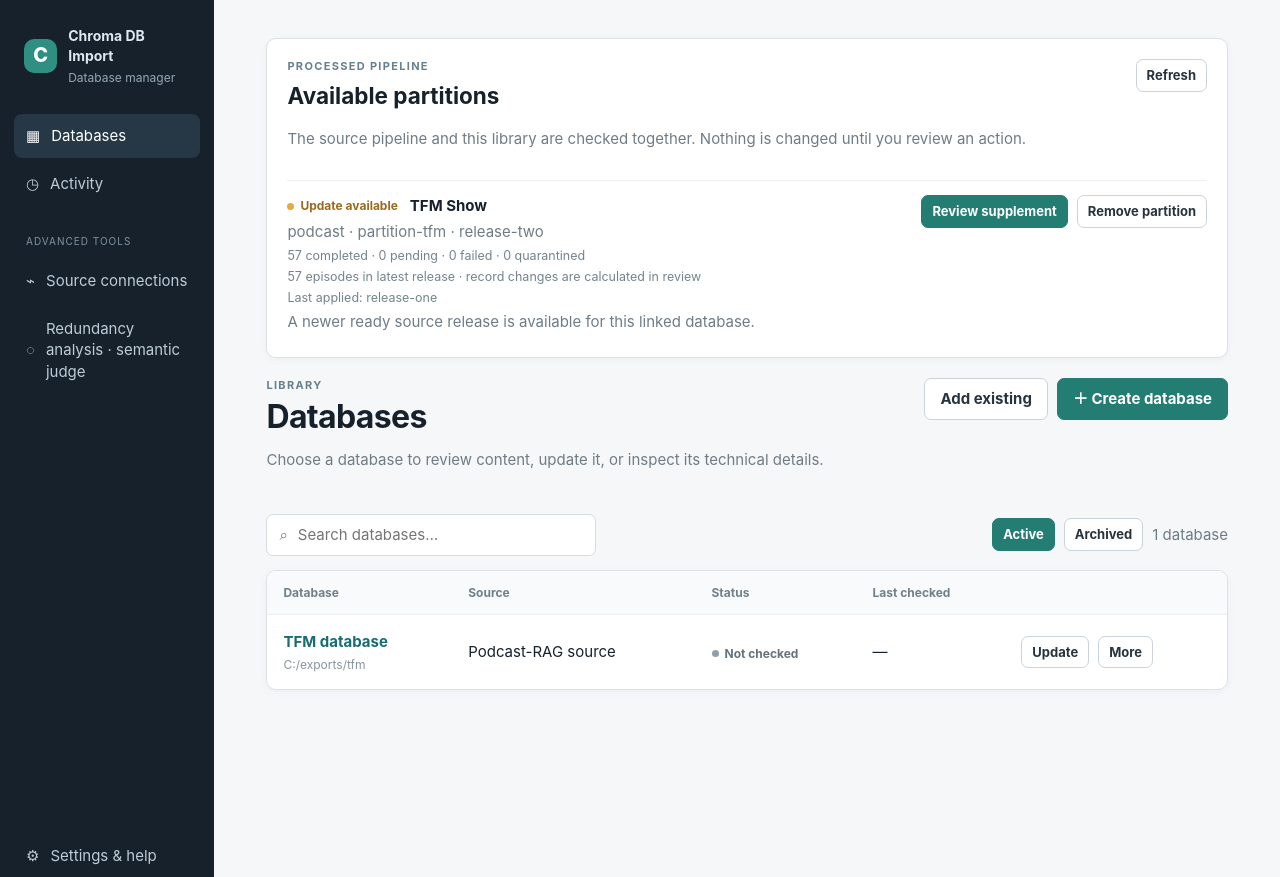
Test: modern database creation flow › routes one matching pipeline database to a source-pinned supplement review
Expected: the button "TFM database" is shown, [283,631,388,653]
Click the button "Review supplement" at (995, 212), box [921,195,1068,228]
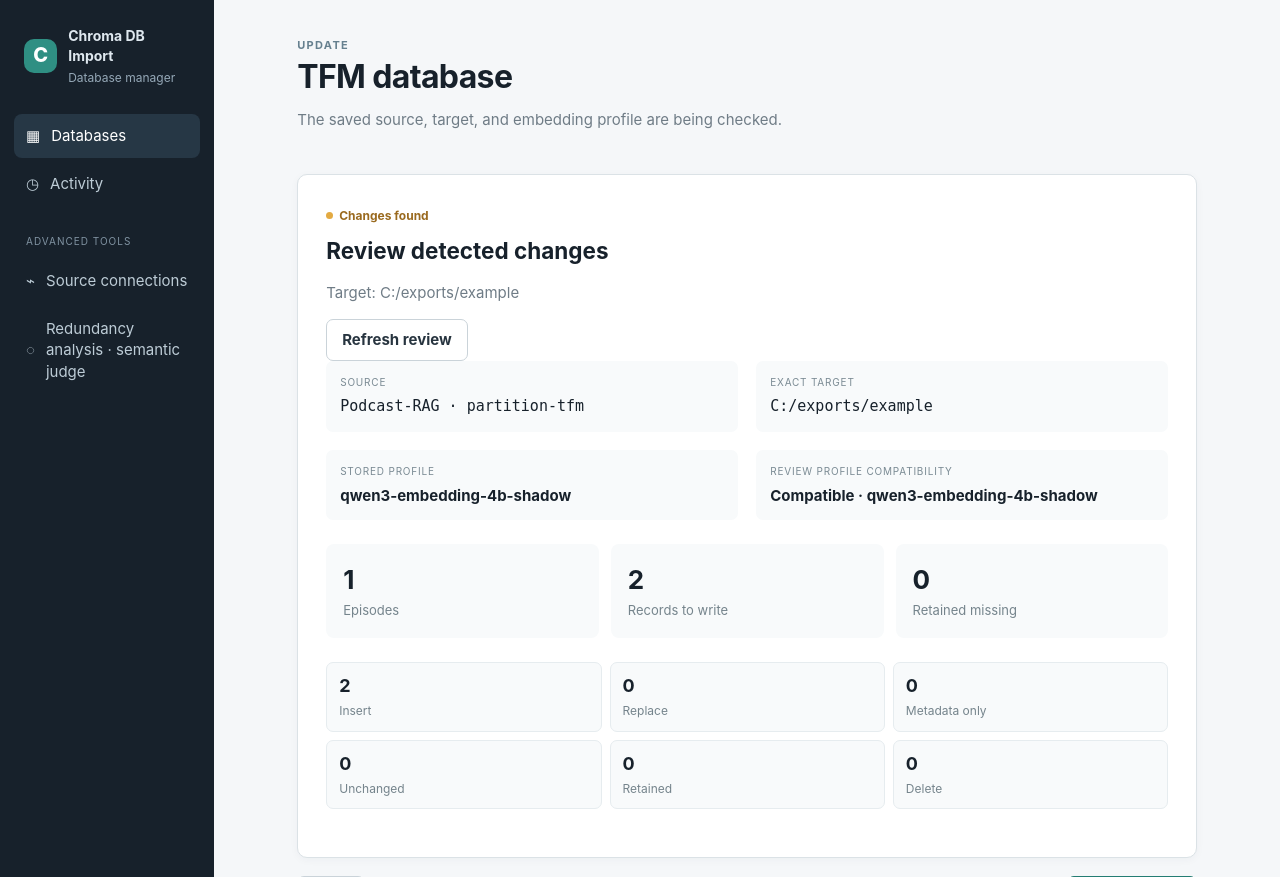
Expected: the heading "TFM database" is shown, [297,57,512,96]
